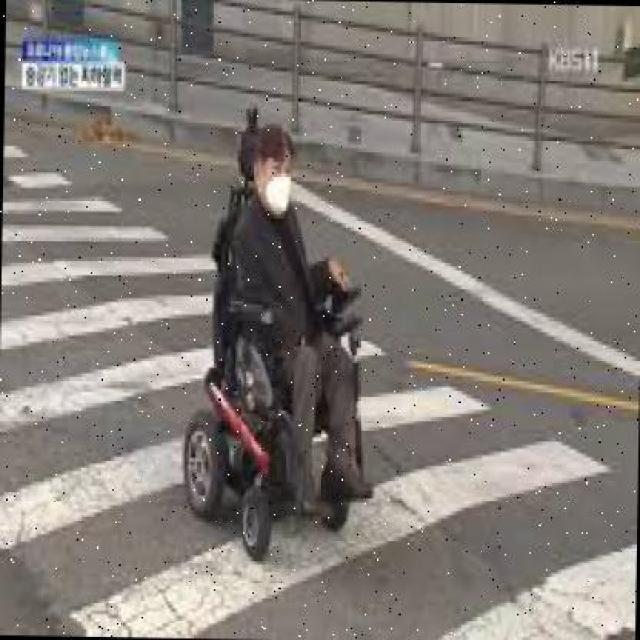Person: (183, 108, 374, 561)
